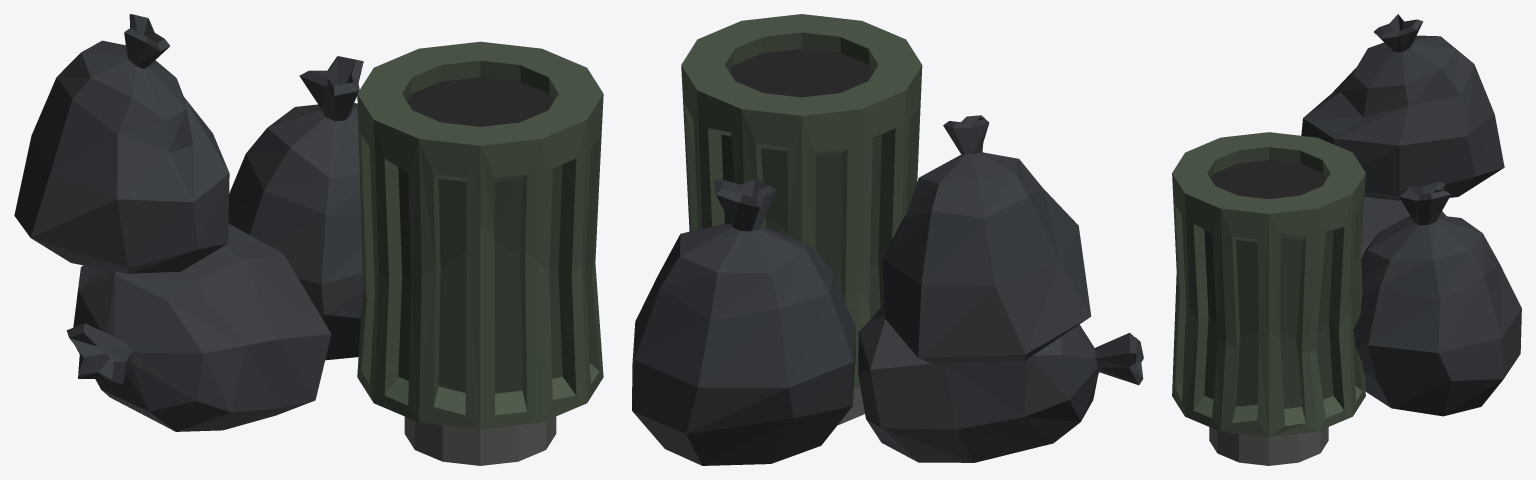
File: active3.gltf
The picture shows the model from 3 angles, left to right: view 1: azimuth 30°, elevation 25°; view 2: azimuth 150°, elevation 25°; view 3: azimuth 270°, elevation 25°; orthographic projection. The views are drawn at different scales.
Visible parts, largest first — view 1: polySurface1079_PolygonCity_Mat_01_A_0.001, sacpoubelle1.001, sacpoubelle2.001, sacpoubelle3.001; view 2: polySurface1079_PolygonCity_Mat_01_A_0.001, sacpoubelle3.001, sacpoubelle1.001, sacpoubelle2.001; view 3: polySurface1079_PolygonCity_Mat_01_A_0.001, sacpoubelle3.001, sacpoubelle1.001, sacpoubelle2.001.
Part boxes in pixels (<box>): polySurface1079_PolygonCity_Mat_01_A_0.001: <box>357,41,603,465</box>; sacpoubelle1.001: <box>14,14,229,273</box>; sacpoubelle2.001: <box>66,223,331,431</box>; sacpoubelle3.001: <box>228,56,363,360</box>; polySurface1079_PolygonCity_Mat_01_A_0.001: <box>681,14,922,424</box>; sacpoubelle3.001: <box>632,178,855,465</box>; sacpoubelle1.001: <box>882,115,1091,363</box>; sacpoubelle2.001: <box>858,304,1143,462</box>; polySurface1079_PolygonCity_Mat_01_A_0.001: <box>1172,132,1365,465</box>; sacpoubelle3.001: <box>1353,181,1521,416</box>; sacpoubelle1.001: <box>1301,14,1504,200</box>; sacpoubelle2.001: <box>1361,197,1446,259</box>.
Size of the model in its own units: 3.36 by 2.73 by 2.67.
Materials: 2 (2 with a texture image).
